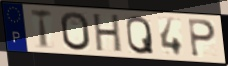4: (160, 16, 186, 58)
H: (92, 13, 123, 54)
O: (59, 10, 93, 52)
P: (187, 18, 218, 59)
Q: (125, 14, 156, 56)
T: (29, 7, 54, 50)
